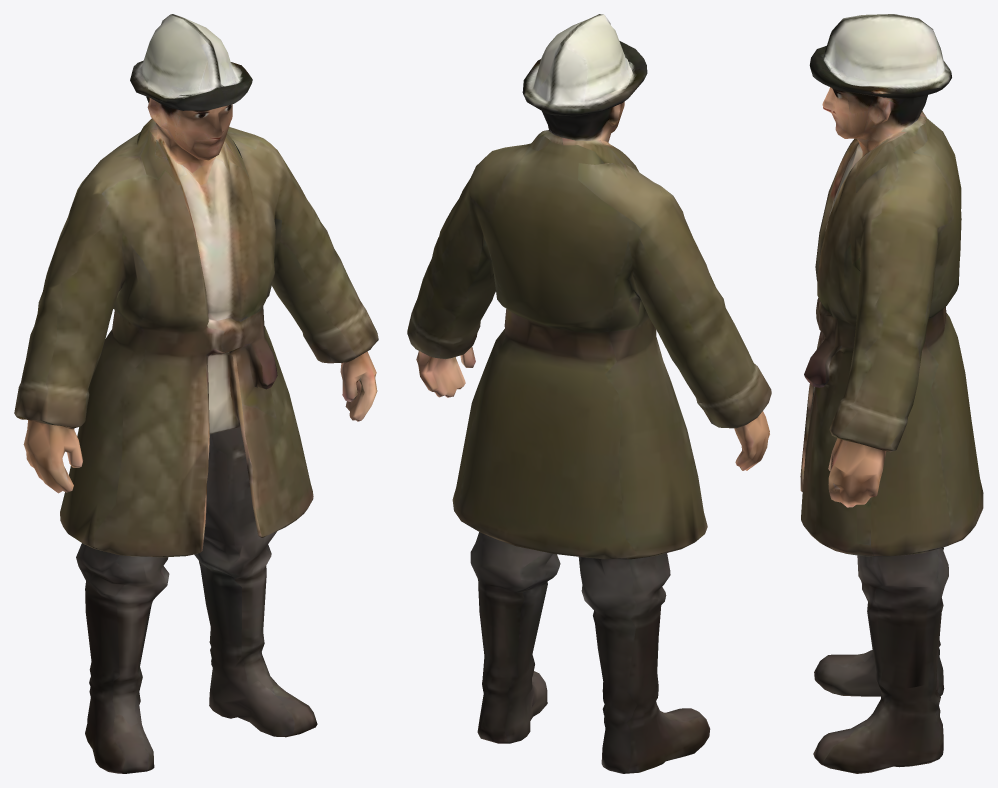
The model's file is herder-erlan.gen.phone.glb.
3 renders of one model, left to right at view 1: azimuth 30°, elevation 25°; view 2: azimuth 150°, elevation 25°; view 3: azimuth 270°, elevation 25°, orthographic.
Visible parts, largest first — view 1: herder-erlan.raw; view 2: herder-erlan.raw; view 3: herder-erlan.raw.
Boxes of the visible parts, left/top/right/bottom form: herder-erlan.raw: left=14, top=14, right=378, bottom=773; herder-erlan.raw: left=407, top=14, right=771, bottom=773; herder-erlan.raw: left=800, top=14, right=983, bottom=773.
Size of the model in its own units: 0.9566 by 1.85 by 0.4318.
Materials: 1 (1 with a texture image).
